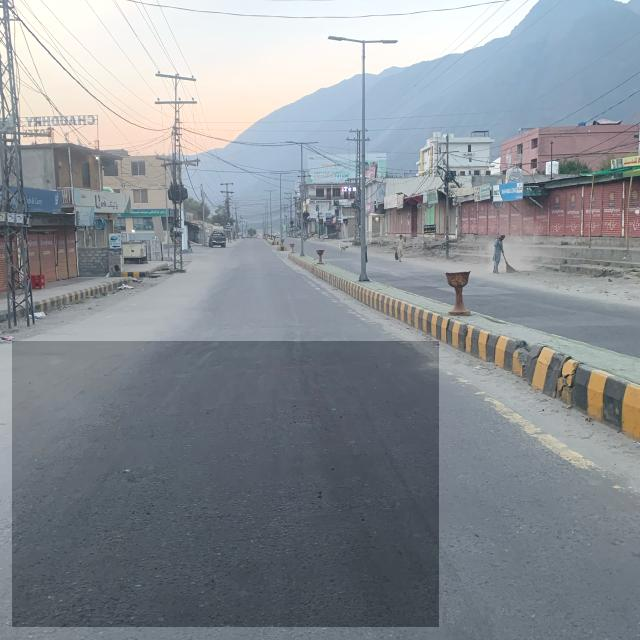straight: (12, 341, 439, 627)
